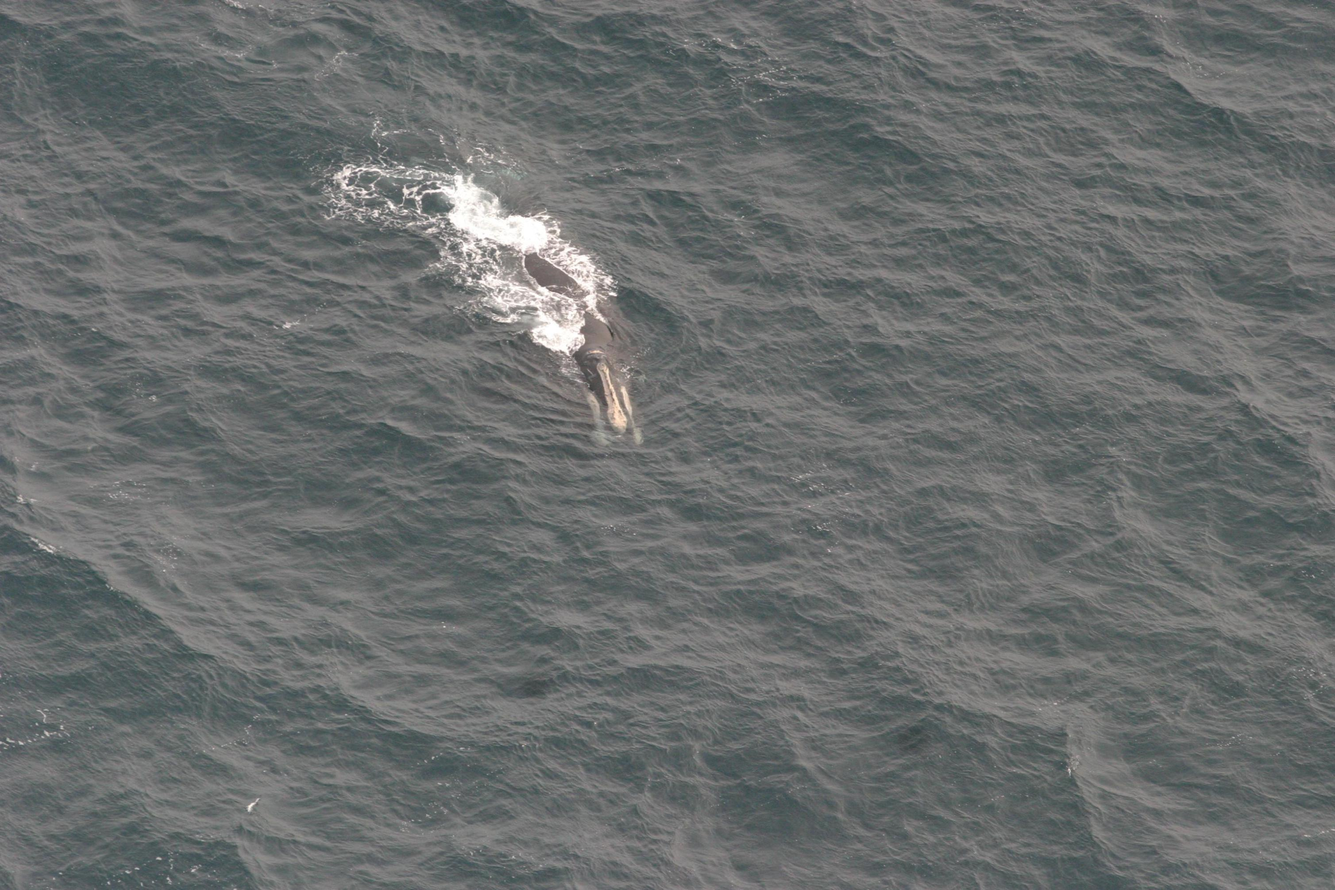whale: (436, 196, 665, 455)
